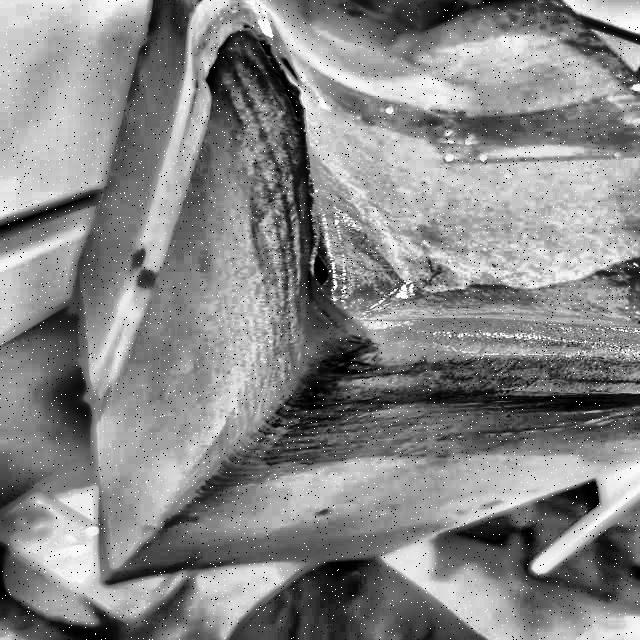box: (69, 0, 640, 592)
wet: (227, 203, 637, 487)
